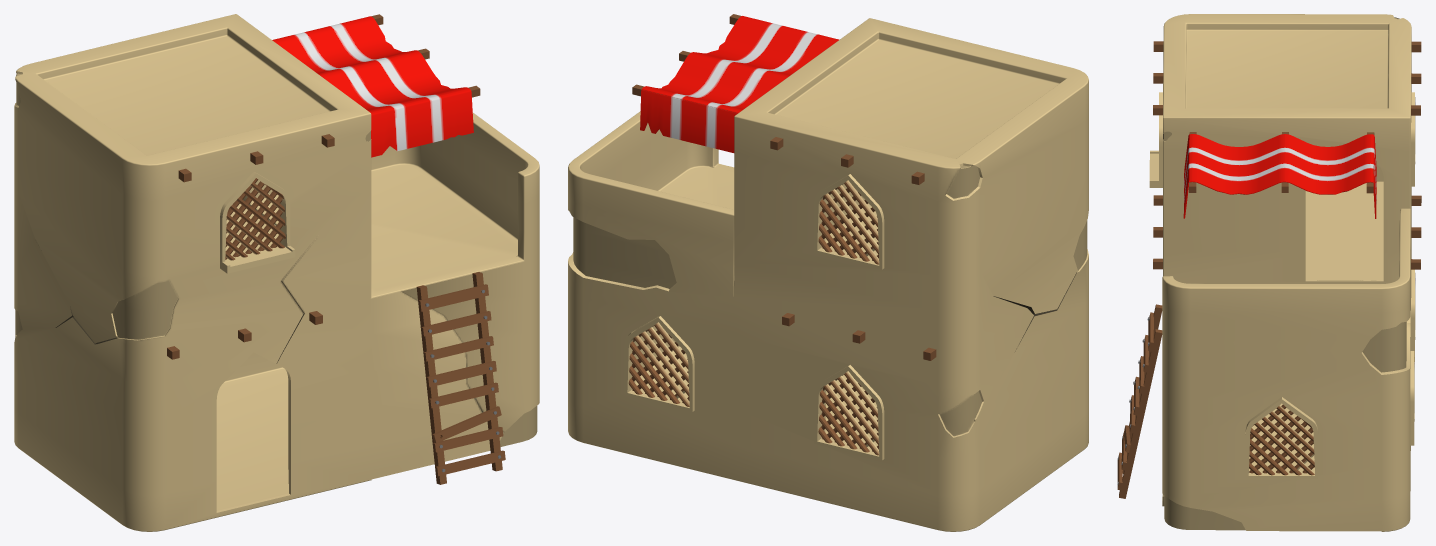
Rendered from desert_house.gltf.
3 views of the same model, side by side, from view 1: azimuth 30°, elevation 25°; view 2: azimuth 150°, elevation 25°; view 3: azimuth 270°, elevation 25° (orthographic). The views are drawn at different scales.
Visible parts, largest first — view 1: deserthouse; view 2: deserthouse; view 3: deserthouse.
Boxes of the visible parts, x1,y1,x2,y2 form: deserthouse: [14, 14, 539, 531]; deserthouse: [568, 14, 1088, 531]; deserthouse: [1117, 14, 1421, 531].
Bounding box in the file's own units: 711 × 597 × 491.
Materials: 1 (1 with a texture image).
